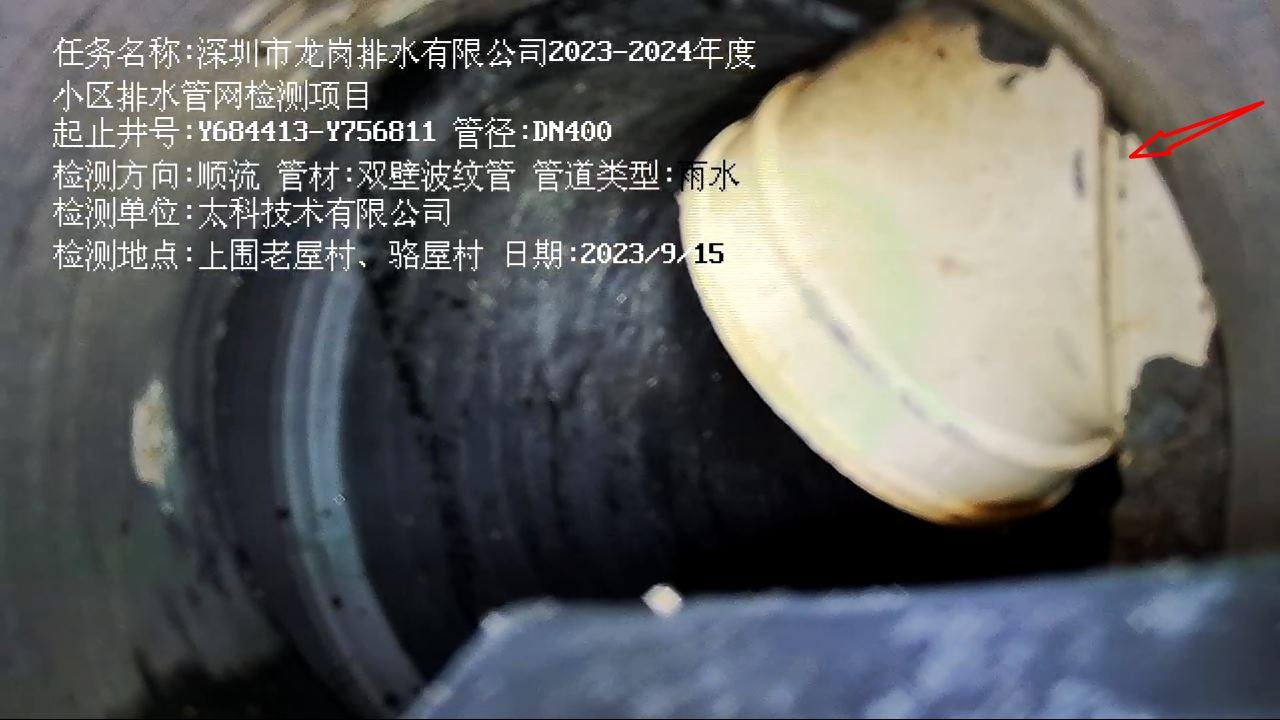ZGAJ: (676, 8, 1215, 523)
